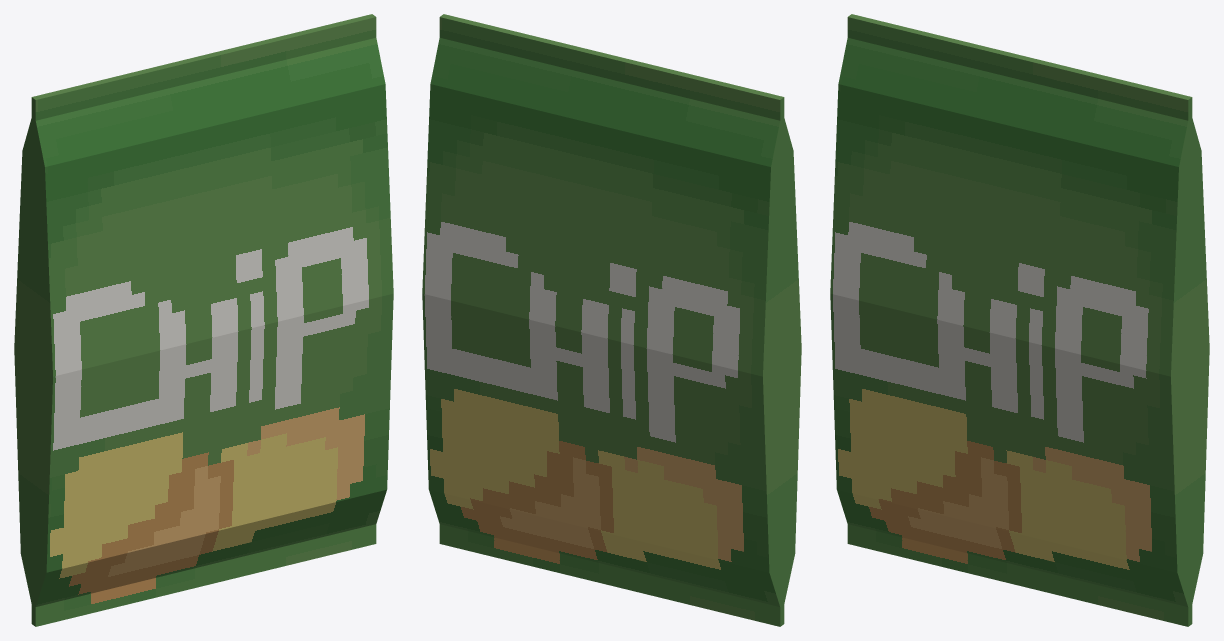
The model's file is Chip2.fbx.
3 renders of one model, left to right at view 1: azimuth 30°, elevation 25°; view 2: azimuth 150°, elevation 25°; view 3: azimuth 330°, elevation 25°, orthographic.
Parts seen in each view (by area): view 1: Cube.003; view 2: Cube.003; view 3: Cube.003.
Part boxes in pixels (x1=…): Cube.003: x1=14, y1=14, x2=393, y2=626; Cube.003: x1=422, y1=14, x2=801, y2=626; Cube.003: x1=830, y1=14, x2=1209, y2=626.
Size of the model in its own units: 157 by 232 by 30.98.
Materials: 1 (1 with a texture image).
